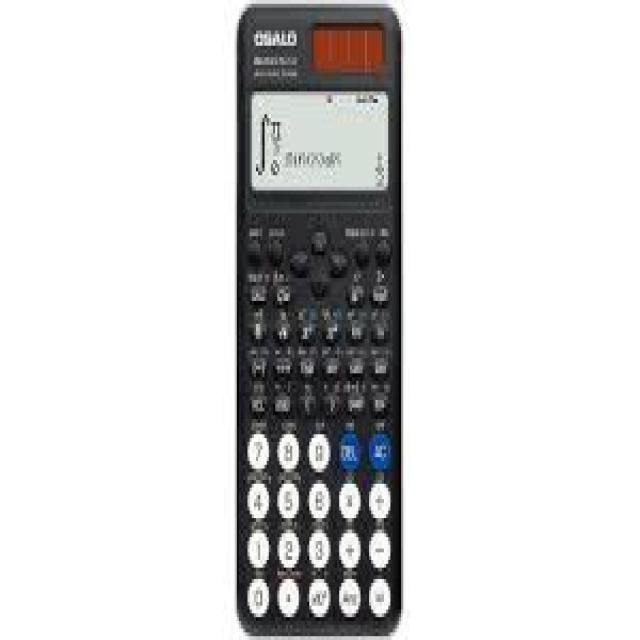Calculator: (219, 0, 410, 640)
